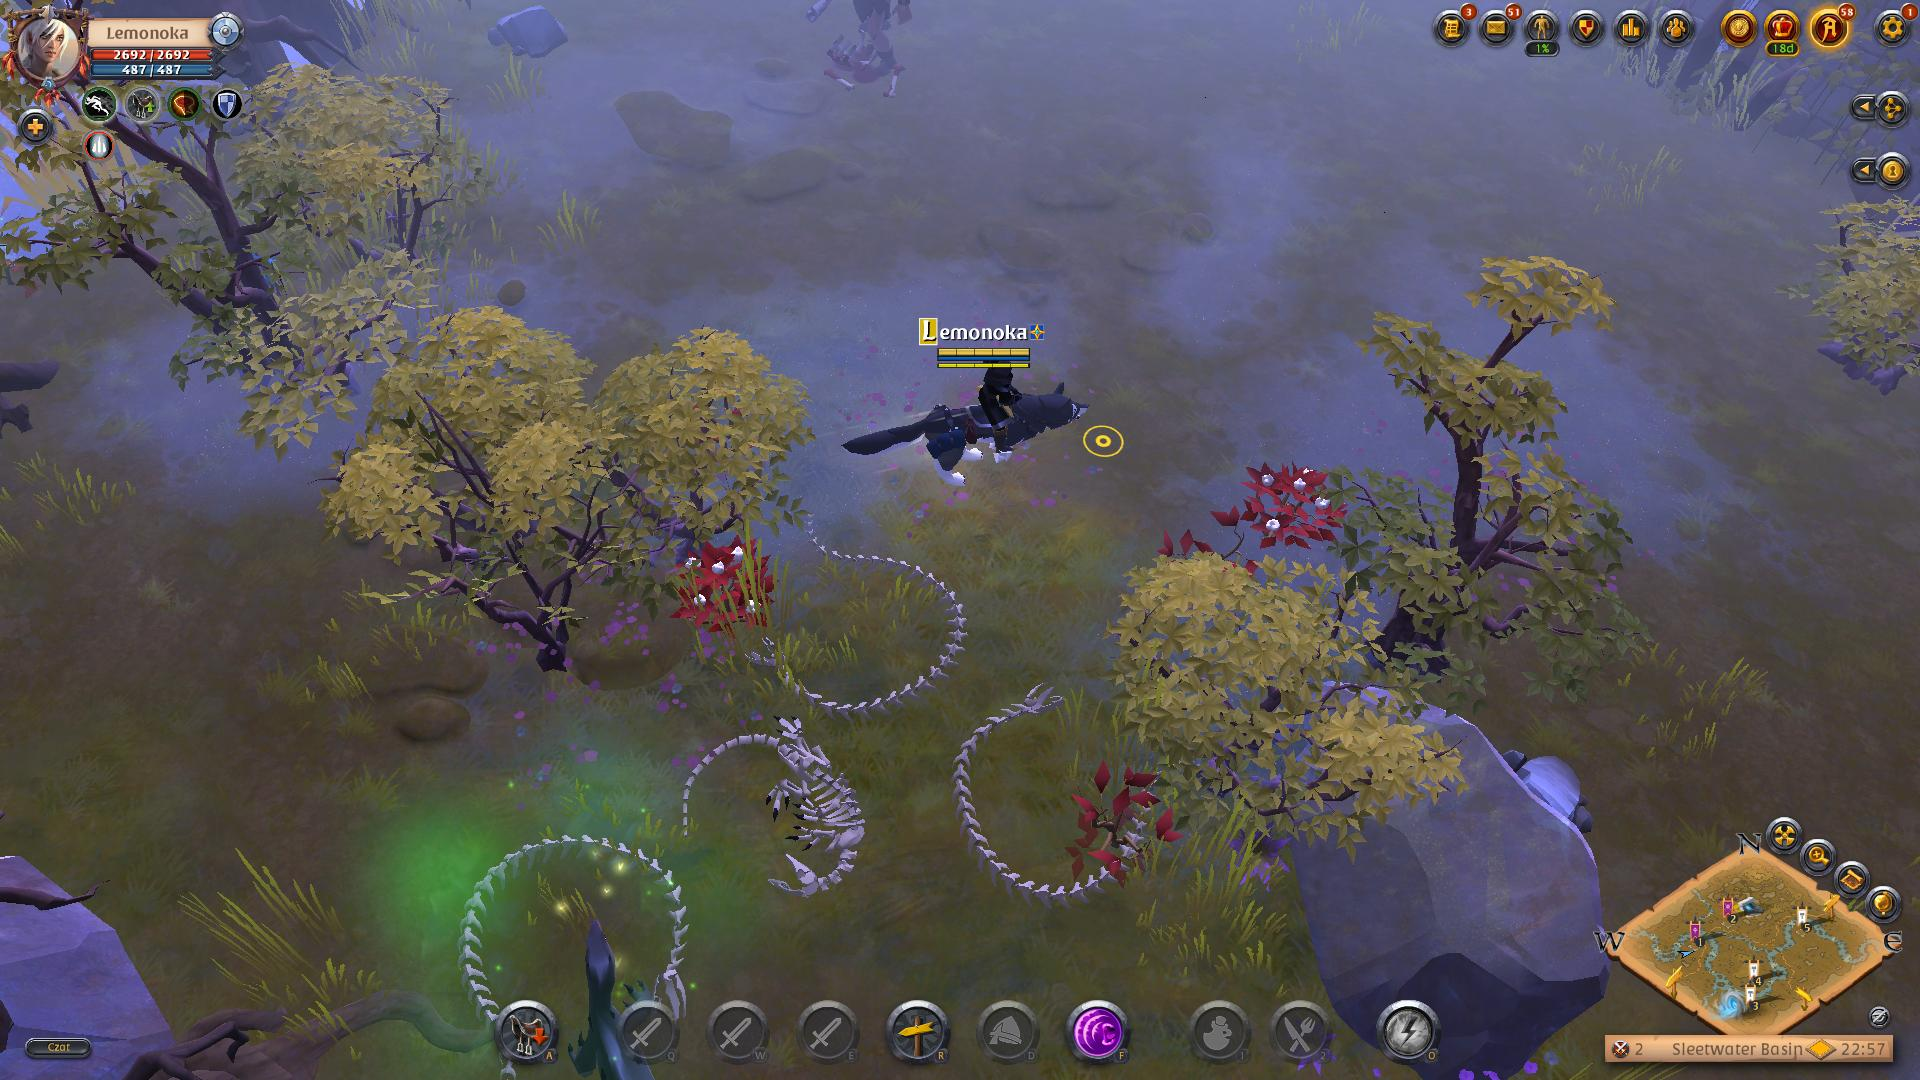fiber tier 5: (667, 537, 790, 637), (1237, 456, 1350, 555)
